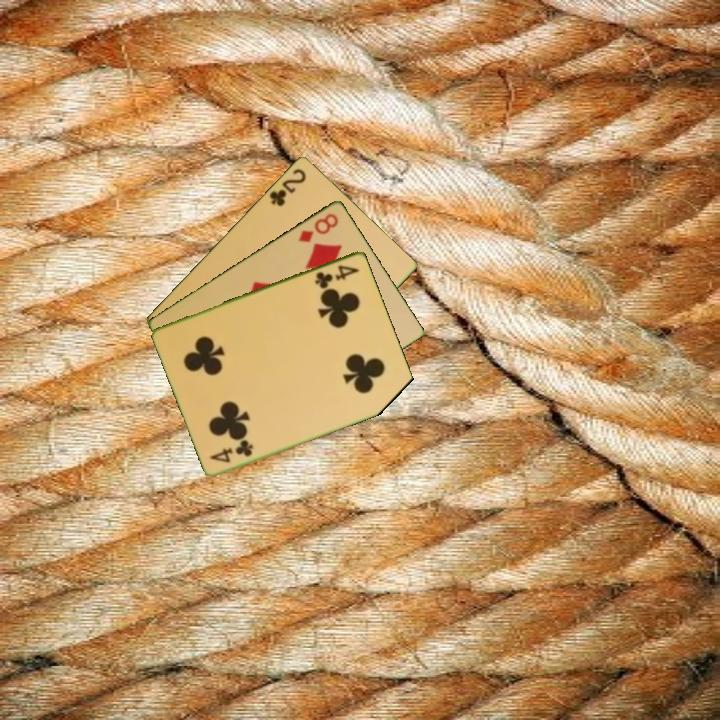2c: (266, 165, 309, 209)
4c: (311, 261, 362, 291), (207, 437, 256, 465)
8d: (294, 209, 341, 245)
